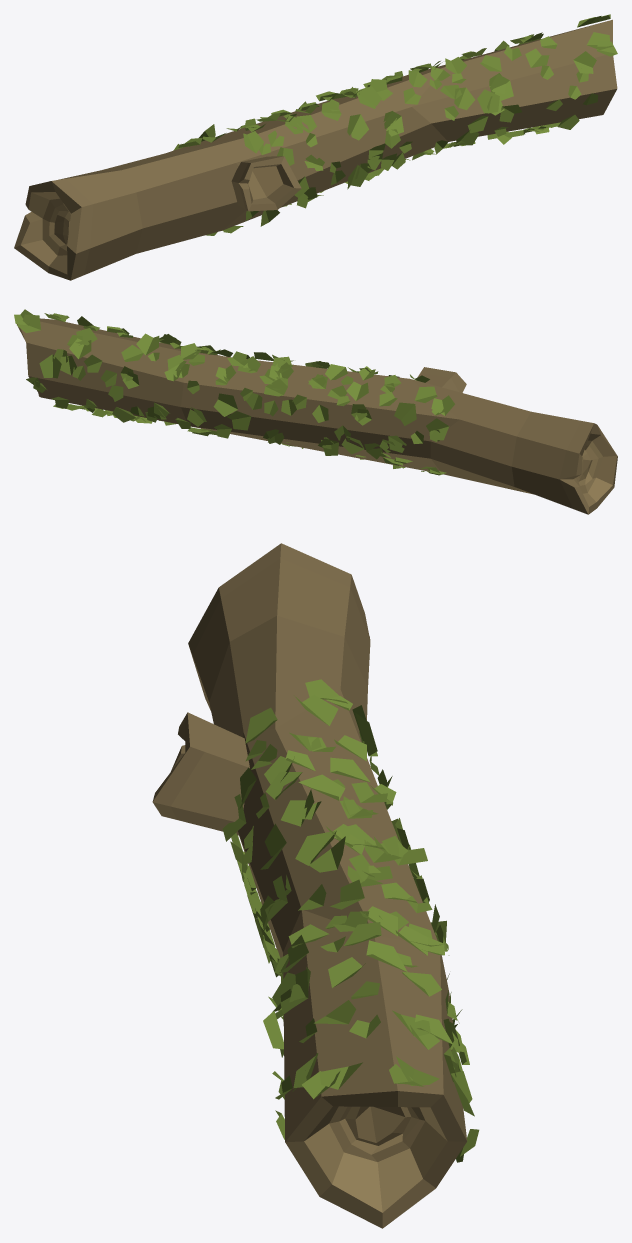
The model's file is Log_2.fbx.
3 views of the same model, one above another, from view 1: azimuth 30°, elevation 25°; view 2: azimuth 150°, elevation 25°; view 3: azimuth 270°, elevation 25° (orthographic). The views are drawn at different scales.
Parts seen in each view (by area): view 1: Log_2; view 2: Log_2; view 3: Log_2.
Boxes of the visible parts, x1,y1,x2,y2 form: Log_2: (14, 14, 617, 280); Log_2: (14, 309, 617, 514); Log_2: (152, 543, 479, 1228).
Size of the model in its own units: 590 by 93.92 by 148.
